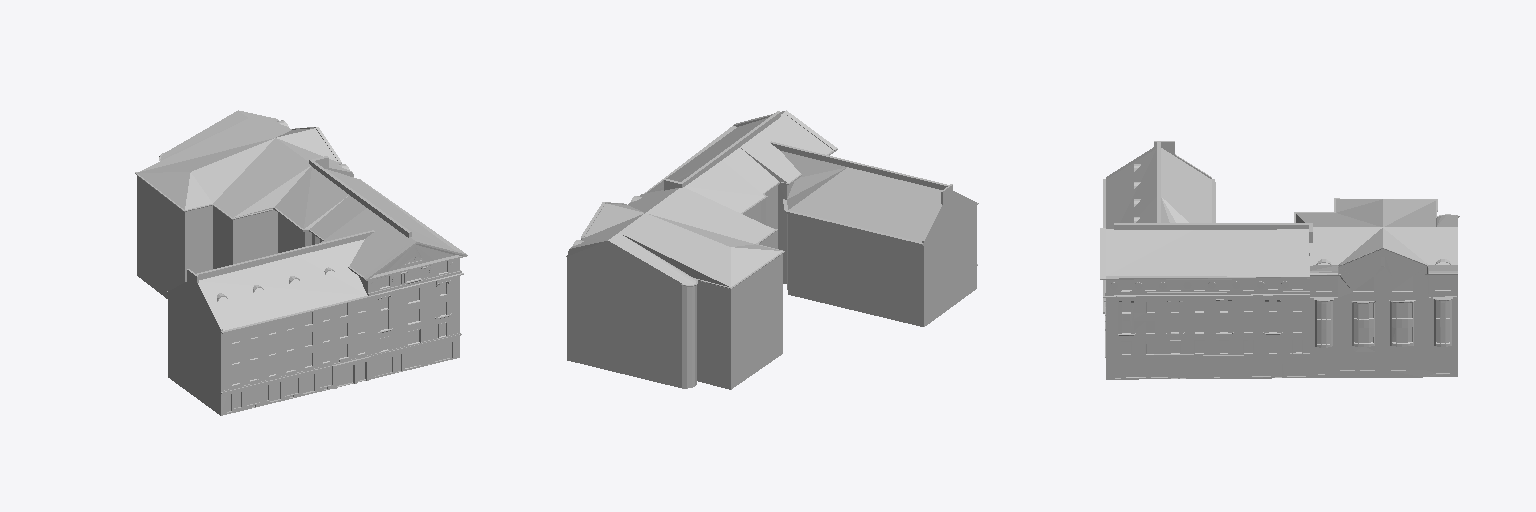
File: MastersceneTrees_NoCityhall_NoSkydome_90degree_pieces_kortteli_2.obj
3 views of the same model, side by side, from view 1: azimuth 30°, elevation 25°; view 2: azimuth 150°, elevation 25°; view 3: azimuth 270°, elevation 25° (orthographic).
Visible parts, largest first — view 1: Kauppurienkatu11; view 2: Kauppurienkatu11; view 3: Kauppurienkatu11.
Boxes of the visible parts, box(x1,y1,x2,y2) form: Kauppurienkatu11: box(135, 110, 467, 415); Kauppurienkatu11: box(566, 110, 978, 389); Kauppurienkatu11: box(1100, 141, 1459, 379).
Bounding box in the file's own units: 40.18 × 20.99 × 51.23.